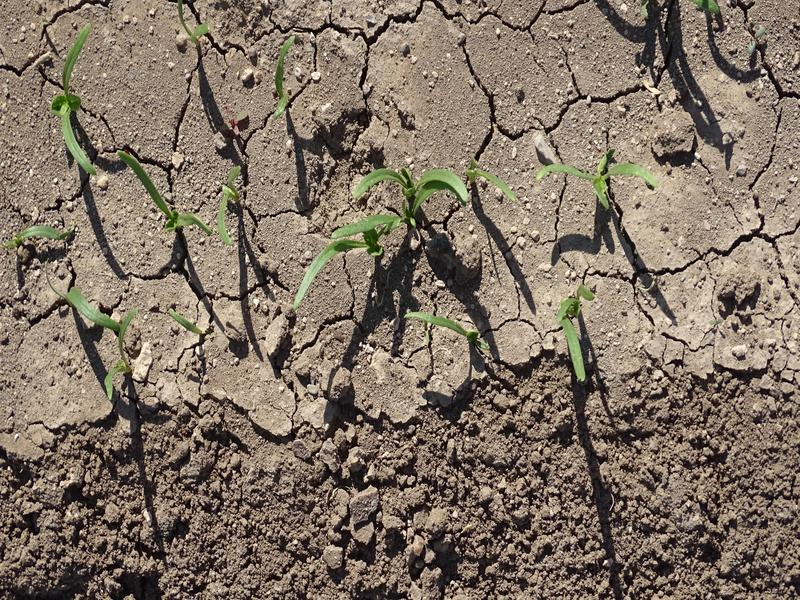Espinaca: (114, 146, 214, 235), (66, 284, 140, 397), (290, 219, 386, 305), (353, 165, 474, 219), (52, 26, 96, 174), (536, 151, 664, 201), (557, 290, 593, 380), (402, 309, 473, 342), (269, 37, 295, 114), (217, 166, 242, 242), (19, 223, 64, 249)
